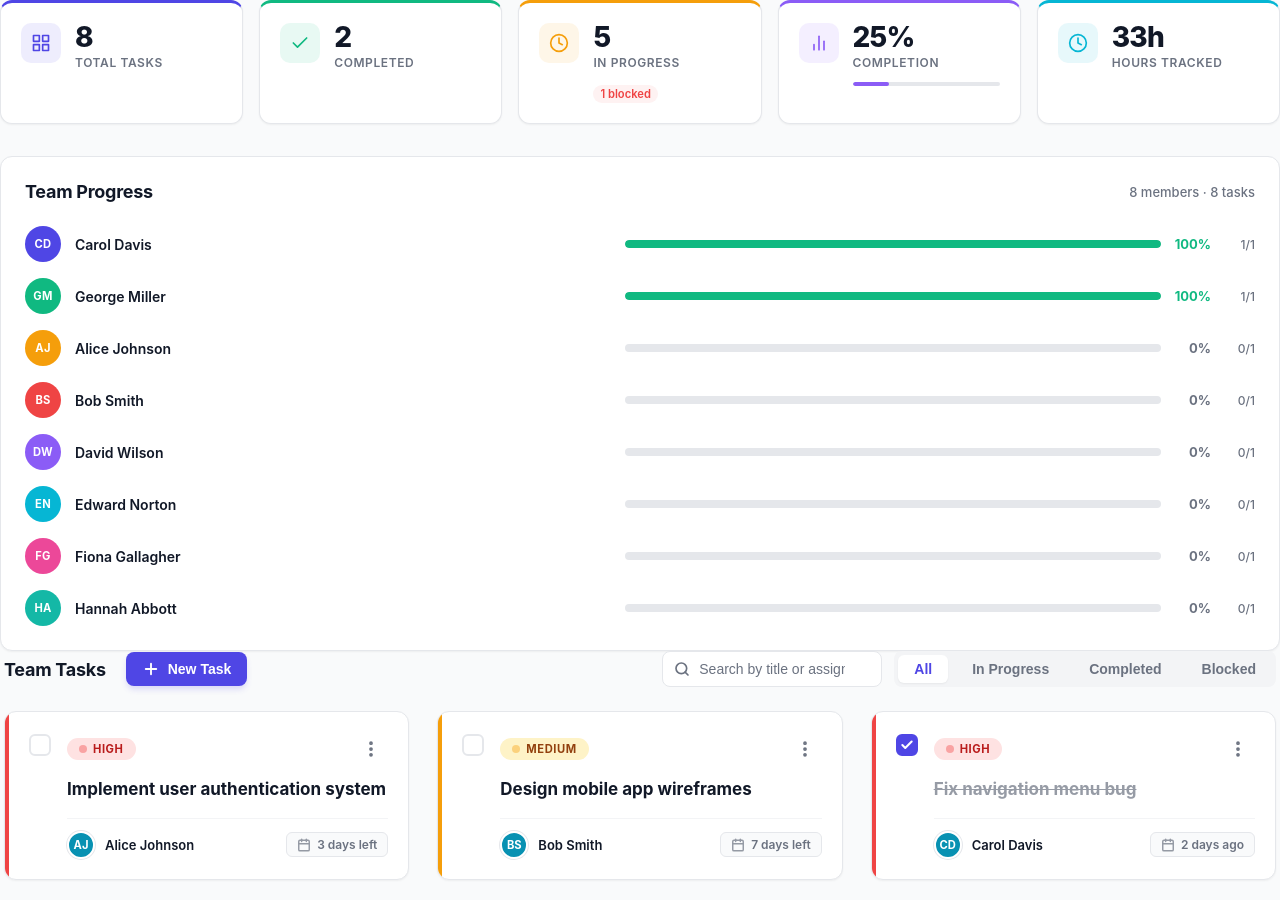
Test case: TaskListView – checkbox updates stats › completed task disappears from In Progress filter after being checked
Click the button "In Progress". click: coordinates (1011, 669)
box: [956, 655, 1065, 683]
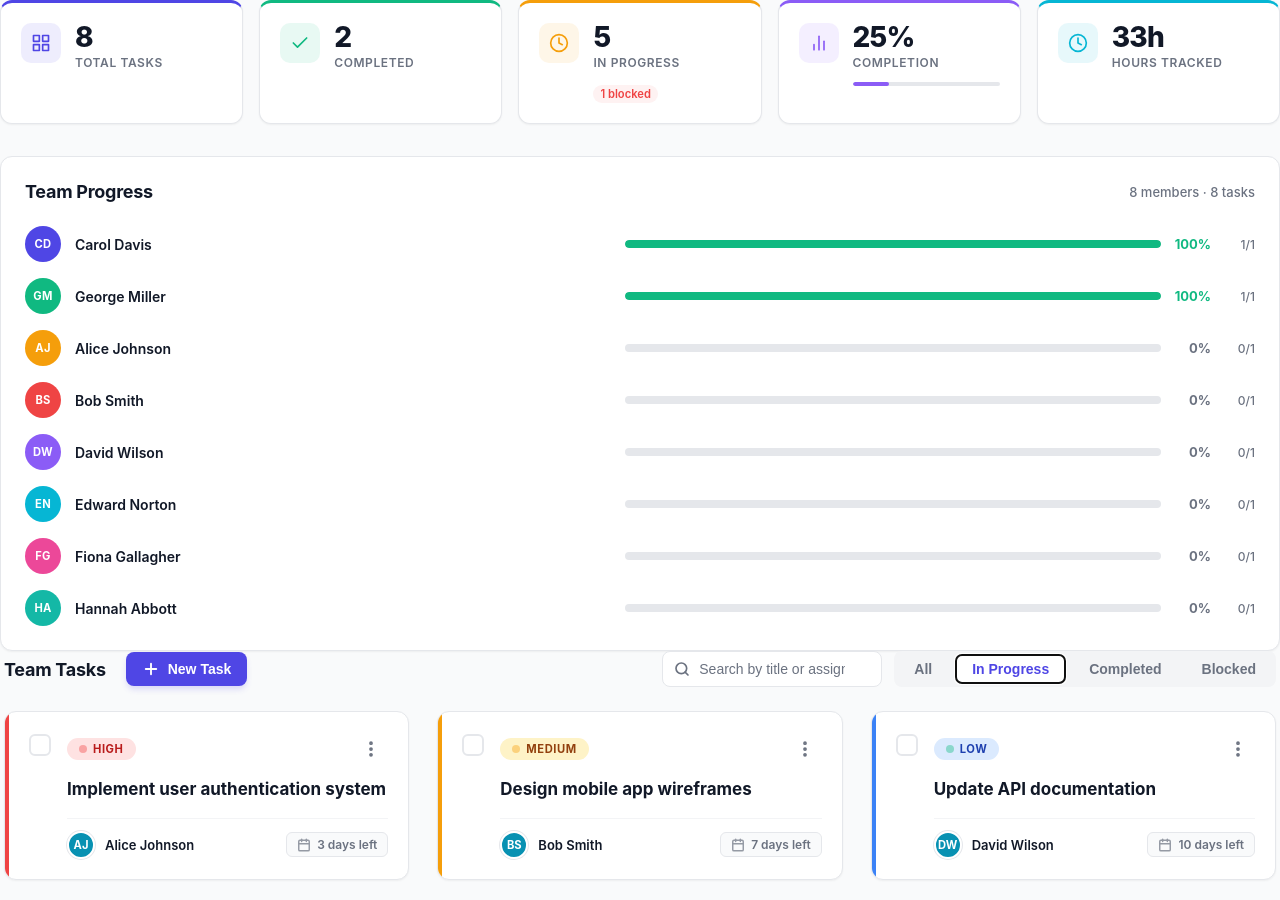
Expected: the heading "Implement user authentication system" is shown, [67, 778, 388, 802]
Click the button named "mark \"implement user authentication system\" as complete". click: coordinates (40, 745)
box: [29, 734, 51, 756]
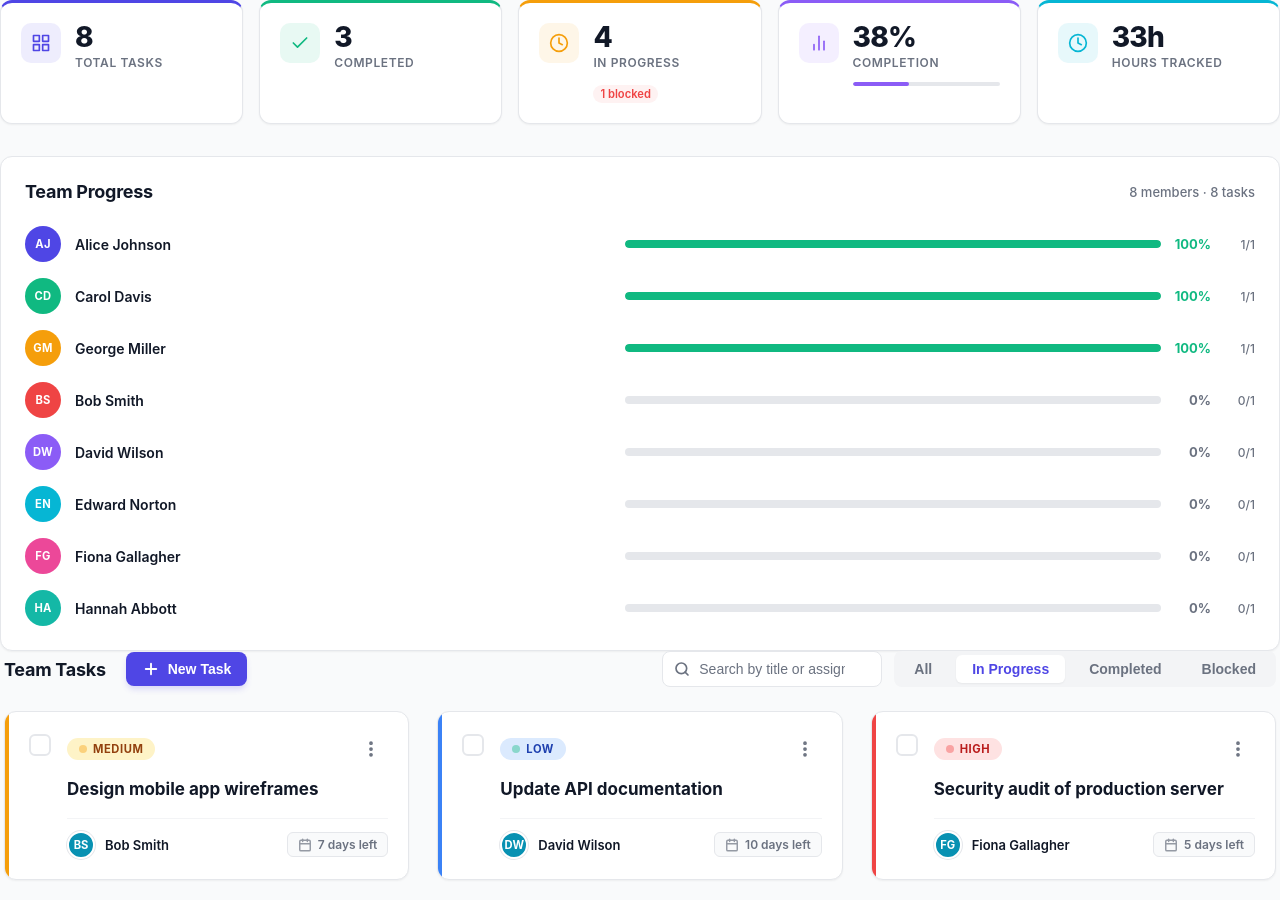
Expected: the heading "Implement user authentication system" is gone
